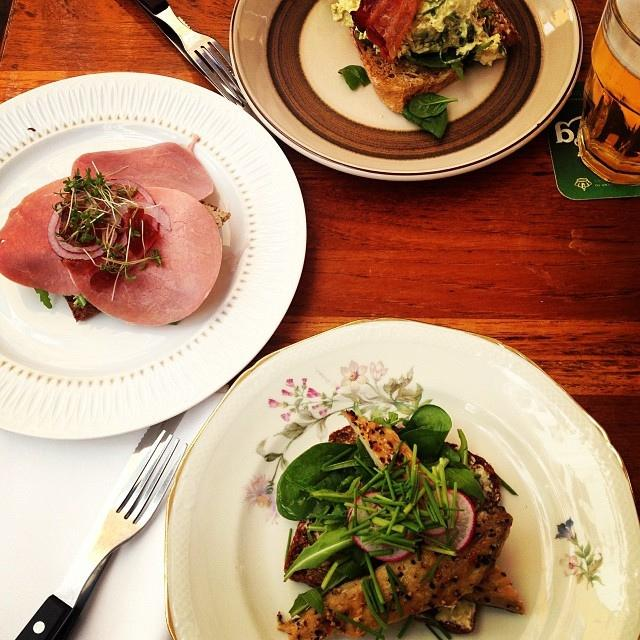onion: (48, 204, 118, 262), (106, 179, 159, 232), (55, 216, 104, 254), (117, 201, 172, 230)
